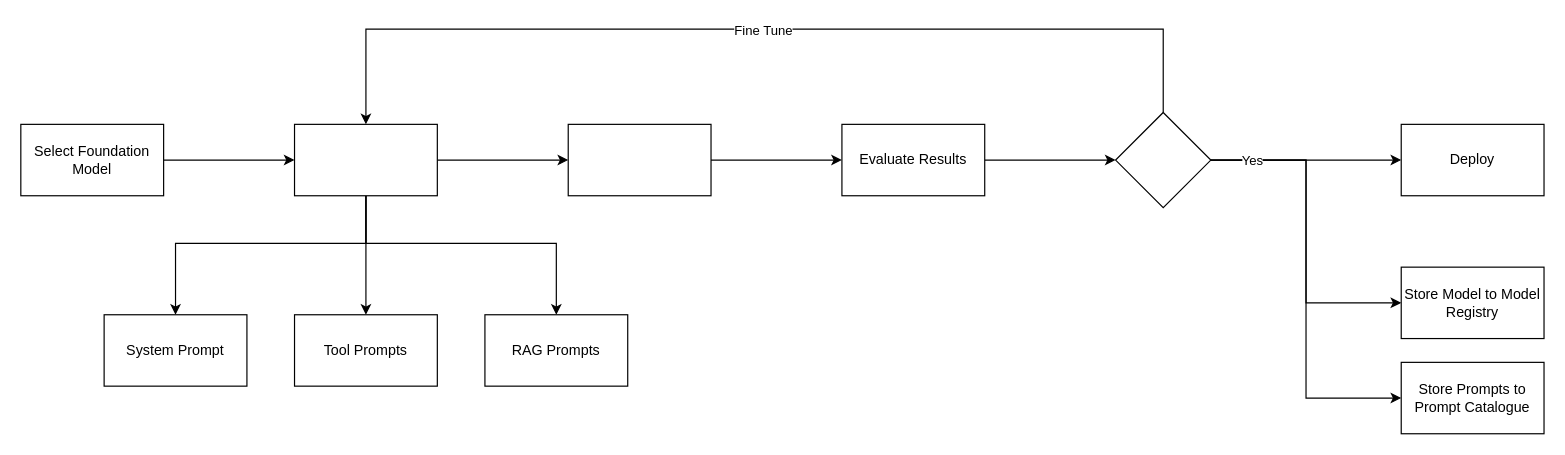
The diagram is 1565 pixels wide and 455 high, and some of its shapes have lost their labels. The shapes that lost their labels are listed below. From the top down, each one's centre as x and y in pixels, then its label:
At (365,159): "Prompt Engineering".
At (639,159): "Create Dataset".
At (1162,159): "Satisfied?".
